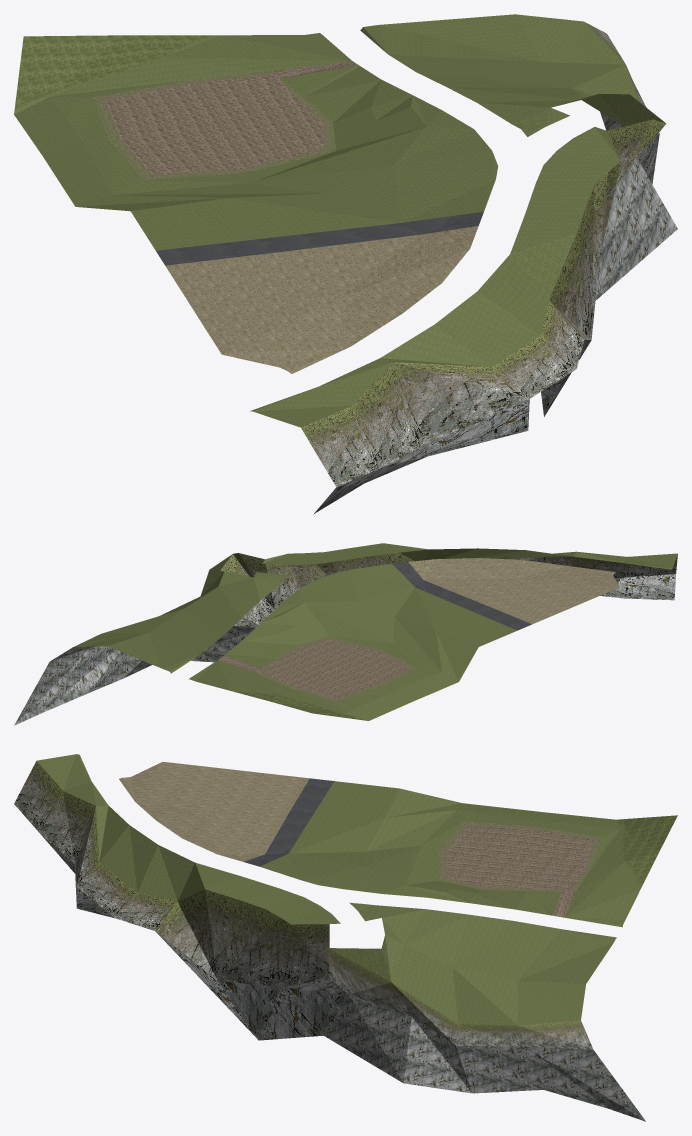
Rendered from lodcuntw11.obj.
3 renders of one model, top to bottom at view 1: azimuth 30°, elevation 25°; view 2: azimuth 150°, elevation 25°; view 3: azimuth 270°, elevation 25°, orthographic. The views are drawn at different scales.
Visible parts, largest first — view 1: lodcuntw11; view 2: lodcuntw11; view 3: lodcuntw11.
Part boxes in pixels (left/top/right/bottom): lodcuntw11: left=14, top=14, right=677, bottom=513; lodcuntw11: left=14, top=543, right=677, bottom=725; lodcuntw11: left=14, top=754, right=677, bottom=1121.
Bounding box in the file's own units: 268 × 75.77 × 294.
9 materials, 9 textured.
